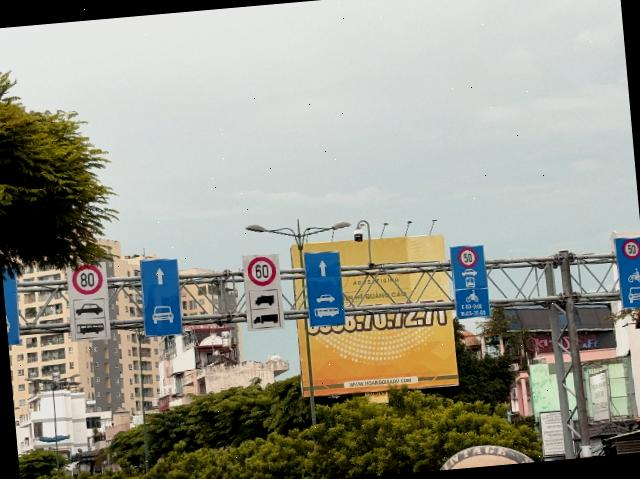toc-do-toi-da-cho-phep: (70, 262, 104, 296), (246, 254, 278, 288), (458, 244, 478, 268), (620, 238, 640, 259)
